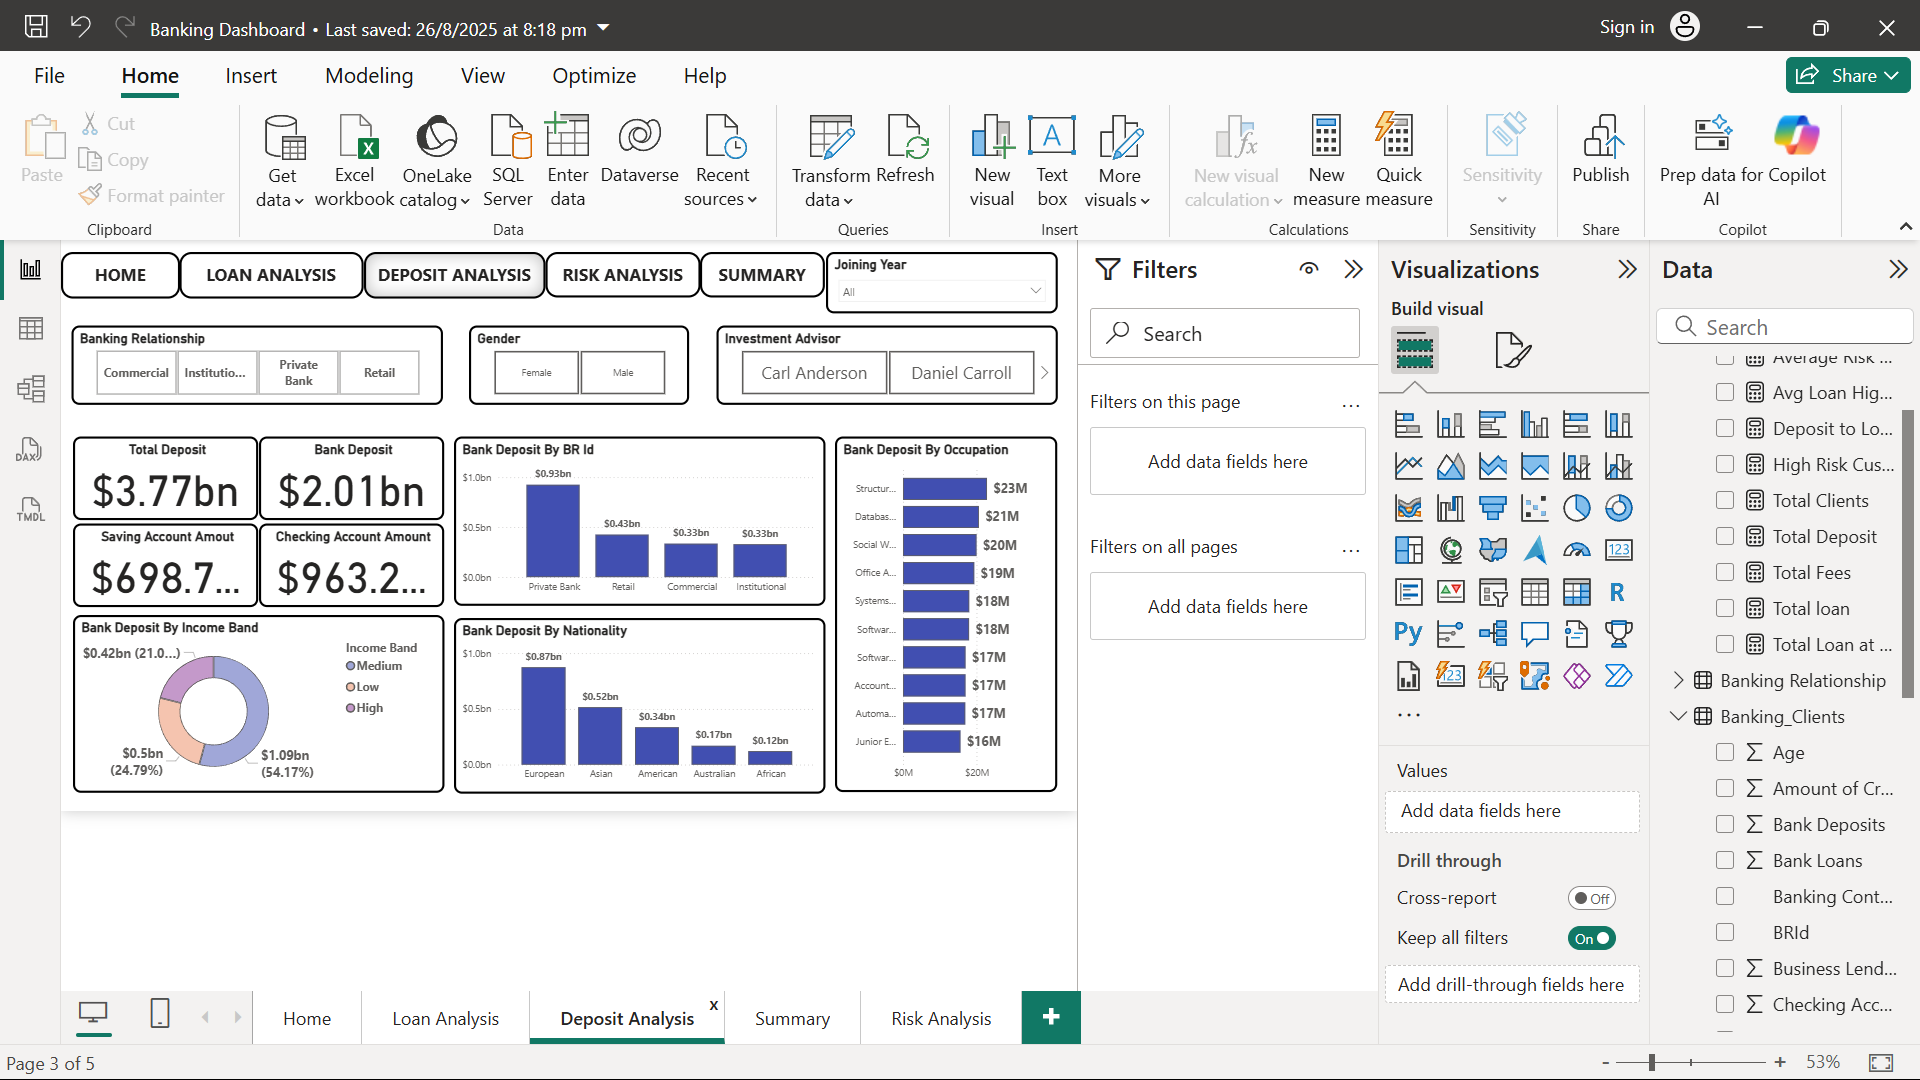

Layout of this report page (visuals, bound fields, positions):
{"tool":"powerbi","page":{"name":"Deposit Analysis","canvas":[1280,720],"ordinal":2},"visuals":[{"type":"card","title":"Total Deposit","fields":{"Values":["Module.Total Deposit"]},"box":[15,248.3,233.3,105],"z":0},{"type":"slicer","title":"Joining Year","fields":{"Values":["Banking_Clients.Joined Bank.Variation.Date Hierarchy.Year"]},"box":[963,15.1,292.2,77.2],"z":1000},{"type":"textbox","box":[0,15.7,150,58.6],"z":2000},{"type":"textbox","box":[381.4,15.7,228.6,58.6],"z":3000},{"type":"card","title":"Bank Deposit","fields":{"Values":["Sum(Banking_Clients.Bank Deposits)"]},"box":[250,248.3,233.3,105],"z":4000},{"type":"card","title":"Saving Account Amout","fields":{"Values":["Sum(Banking_Clients.Saving Accounts)"]},"box":[15,356.7,233.3,105],"z":5000},{"type":"card","title":"Checking Account Amount","fields":{"Values":["Sum(Banking_Clients.Checking Accounts)"]},"box":[250,356.7,233,105],"z":6000},{"type":"textbox","box":[150,15,231.7,58.3],"z":7000},{"type":"textbox","box":[610.2,15.1,195.3,57.5],"z":8000},{"type":"donutChart","title":"Bank Deposit By Income Band","fields":{"Category":["Banking_Clients.Income Band"],"Y":["Sum(Banking_Clients.Bank Deposits)"]},"box":[15.1,472.4,467.9,224.1],"z":9000},{"type":"clusteredColumnChart","title":"Bank Deposit By  BR Id","fields":{"Category":["Banking Relationship.Banking Relationship"],"Y":["Sum(Banking_Clients.Bank Deposits)"]},"box":[495.1,248.3,467.9,213.5],"z":10000},{"type":"columnChart","title":"Bank Deposit By  Nationality","fields":{"Category":["Banking_Clients.Nationality"],"Y":["Sum(Banking_Clients.Bank Deposits)"]},"box":[495.1,475.5,467.9,221.1],"z":11000},{"type":"barChart","title":"Bank Deposit By Occupation","fields":{"Category":["Banking_Clients.Occupation"],"Y":["Sum(Banking_Clients.Bank Deposits)"]},"box":[975.1,248.3,280.1,448.2],"z":12000},{"type":"slicer","title":"Banking Relationship","fields":{"Values":["Banking Relationship.Banking Relationship"]},"box":[13.6,107.5,467.9,99.9],"z":13000},{"type":"slicer","title":"Gender","fields":{"Values":["Gender.Gender"]},"box":[514.8,107.5,277.1,99.9],"z":14000},{"type":"slicer","title":"Investment Advisor","fields":{"Values":["Investment Advisor.Investment Advisor"]},"box":[825.2,107.5,430,99.9],"z":15000},{"type":"actionButton","box":[0,15.1,149.9,59.1],"z":16000},{"type":"actionButton","box":[149.9,15.1,231.7,59.1],"z":17000},{"type":"actionButton","box":[805.6,15.1,157.5,59.1],"z":18000},{"type":"textbox","box":[805.6,15.1,157.5,57.5],"z":18001},{"type":"actionButton","box":[610.2,15.1,195.3,57.5],"z":18002}]}

Visuals, with their boxes on the page's 1280x720 design canvas (x1, y1, x2, y2). These are canvas units, not pixel positions in the 1920x1080 screenshot, which may show the page scaled, cropped or inside an application window:
"Total Deposit" card: {"left": 15, "top": 248, "right": 248, "bottom": 353}
"Joining Year" slicer: {"left": 963, "top": 15, "right": 1255, "bottom": 92}
textbox: {"left": 0, "top": 16, "right": 150, "bottom": 74}
textbox: {"left": 381, "top": 16, "right": 610, "bottom": 74}
"Bank Deposit" card: {"left": 250, "top": 248, "right": 483, "bottom": 353}
"Saving Account Amout" card: {"left": 15, "top": 357, "right": 248, "bottom": 462}
"Checking Account Amount" card: {"left": 250, "top": 357, "right": 483, "bottom": 462}
textbox: {"left": 150, "top": 15, "right": 382, "bottom": 73}
textbox: {"left": 610, "top": 15, "right": 806, "bottom": 73}
"Bank Deposit By Income Band" donutChart: {"left": 15, "top": 472, "right": 483, "bottom": 696}
"Bank Deposit By  BR Id" clusteredColumnChart: {"left": 495, "top": 248, "right": 963, "bottom": 462}
"Bank Deposit By  Nationality" columnChart: {"left": 495, "top": 476, "right": 963, "bottom": 697}
"Bank Deposit By Occupation" barChart: {"left": 975, "top": 248, "right": 1255, "bottom": 696}
"Banking Relationship" slicer: {"left": 14, "top": 108, "right": 482, "bottom": 207}
"Gender" slicer: {"left": 515, "top": 108, "right": 792, "bottom": 207}
"Investment Advisor" slicer: {"left": 825, "top": 108, "right": 1255, "bottom": 207}
actionButton: {"left": 0, "top": 15, "right": 150, "bottom": 74}
actionButton: {"left": 150, "top": 15, "right": 382, "bottom": 74}
actionButton: {"left": 806, "top": 15, "right": 963, "bottom": 74}
textbox: {"left": 806, "top": 15, "right": 963, "bottom": 73}
actionButton: {"left": 610, "top": 15, "right": 806, "bottom": 73}
